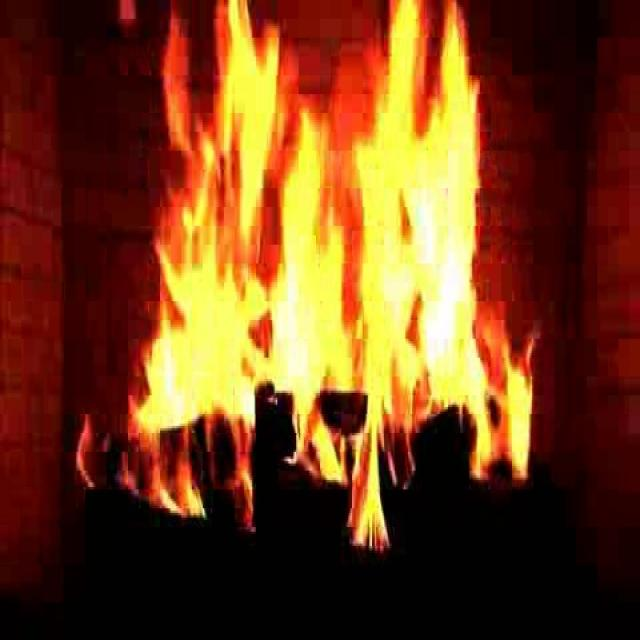fire: (136, 27, 534, 500)
